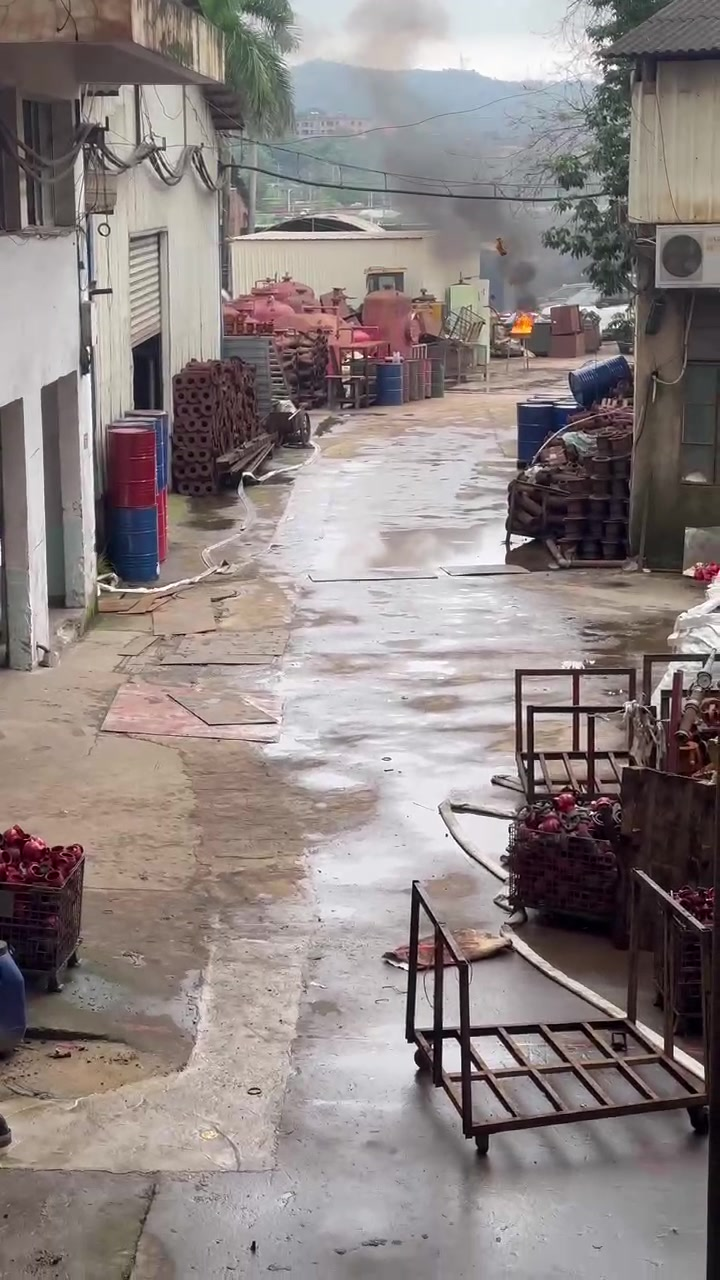fire: (510, 313, 531, 332)
